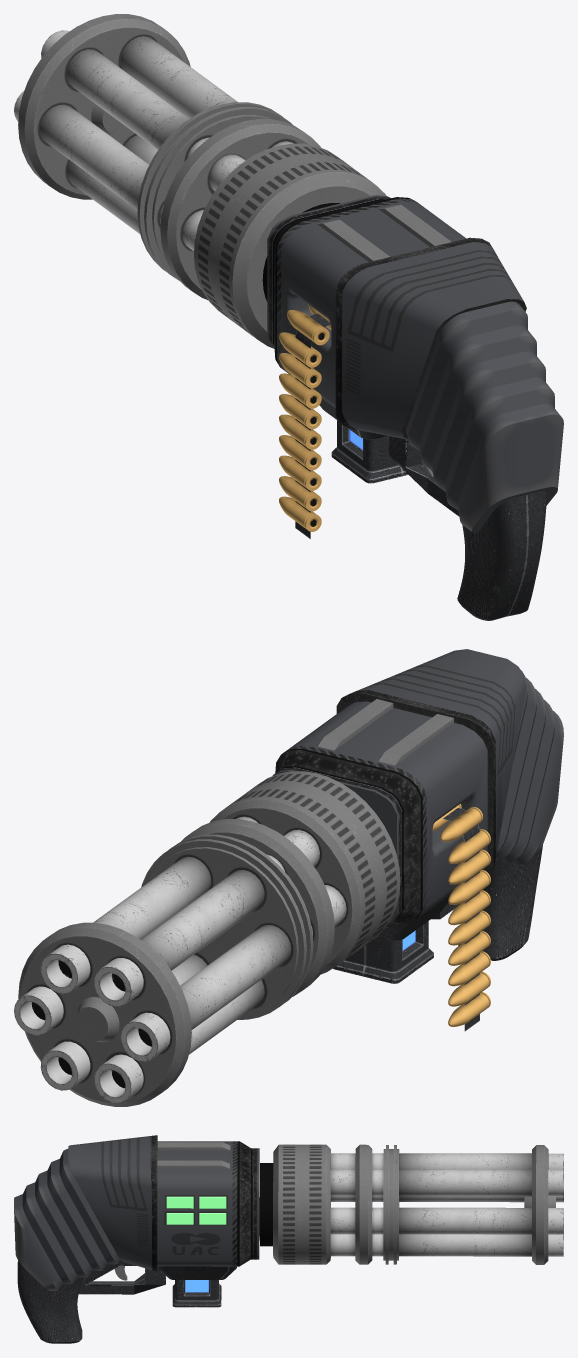
The model's file is minigun.glb.
3 renders of one model, top to bottom at view 1: azimuth 30°, elevation 25°; view 2: azimuth 150°, elevation 25°; view 3: azimuth 270°, elevation 25°, orthographic. The views are drawn at different scales.
Visible parts, largest first — view 1: chaingun; view 2: chaingun; view 3: chaingun.
Boxes of the visible parts, left/top/right/bottom form: chaingun: left=14, top=14, right=563, bottom=620; chaingun: left=14, top=649, right=563, bottom=1106; chaingun: left=14, top=1135, right=563, bottom=1343.
Size of what is drawn, in the model's own units: 0.2579 by 0.4178 by 1.11.
Materials: 1 (1 with a texture image).
